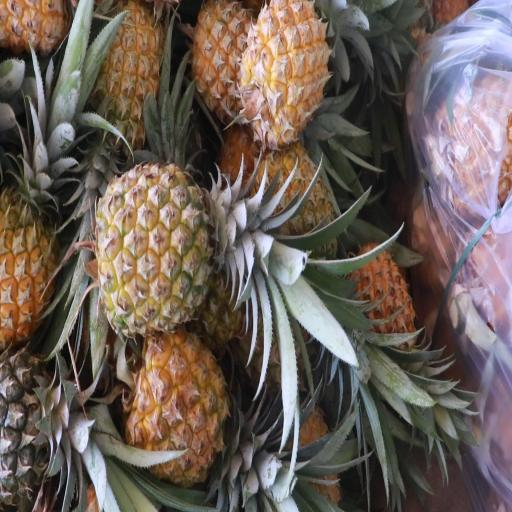------------------------------: (90, 158, 280, 327)
Pineapple - v8 v1: (111, 322, 272, 486), (0, 99, 73, 357), (237, 0, 341, 140), (88, 1, 164, 143), (190, 0, 255, 118)
